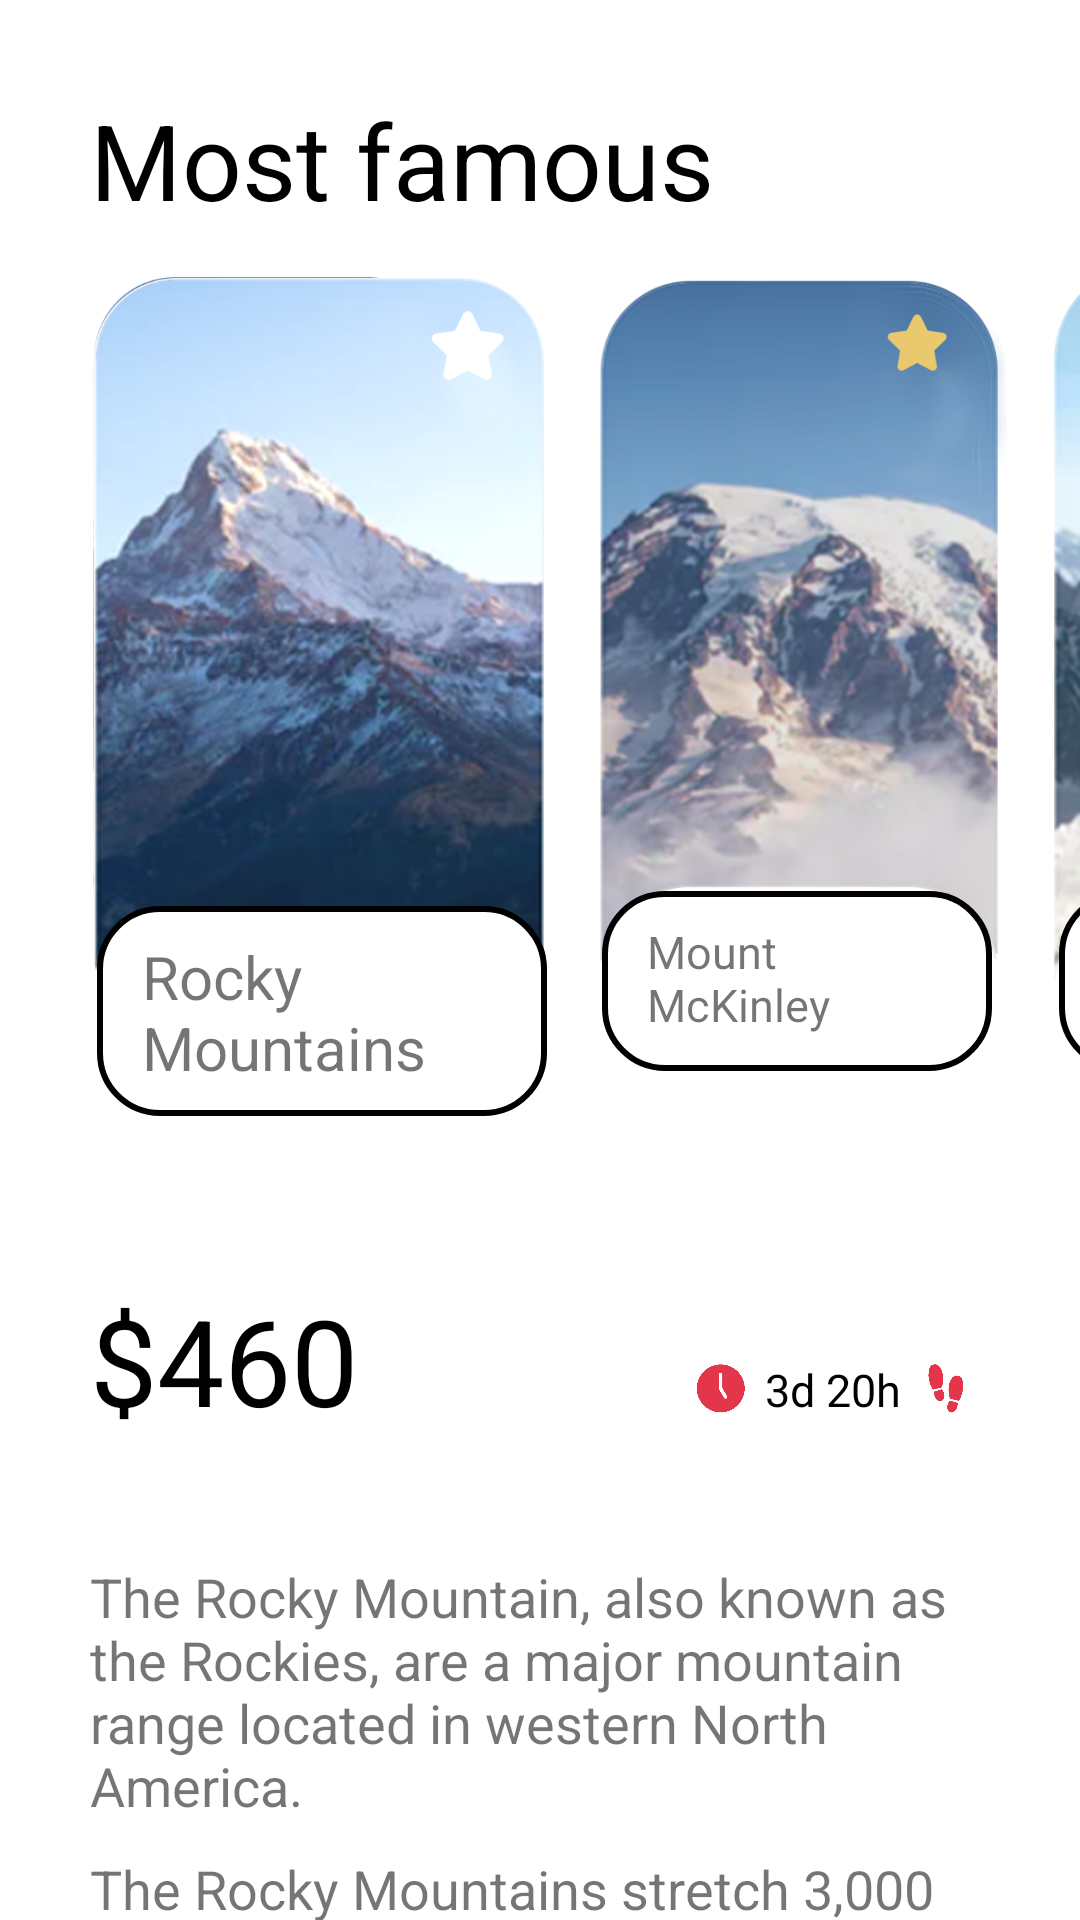

Screen size 1080w x 1920h. Icon name, then its box in pixels as (x1, y1, x2, y2):
pasos: (928, 1364, 963, 1413)
reloj: (697, 1364, 745, 1412)
